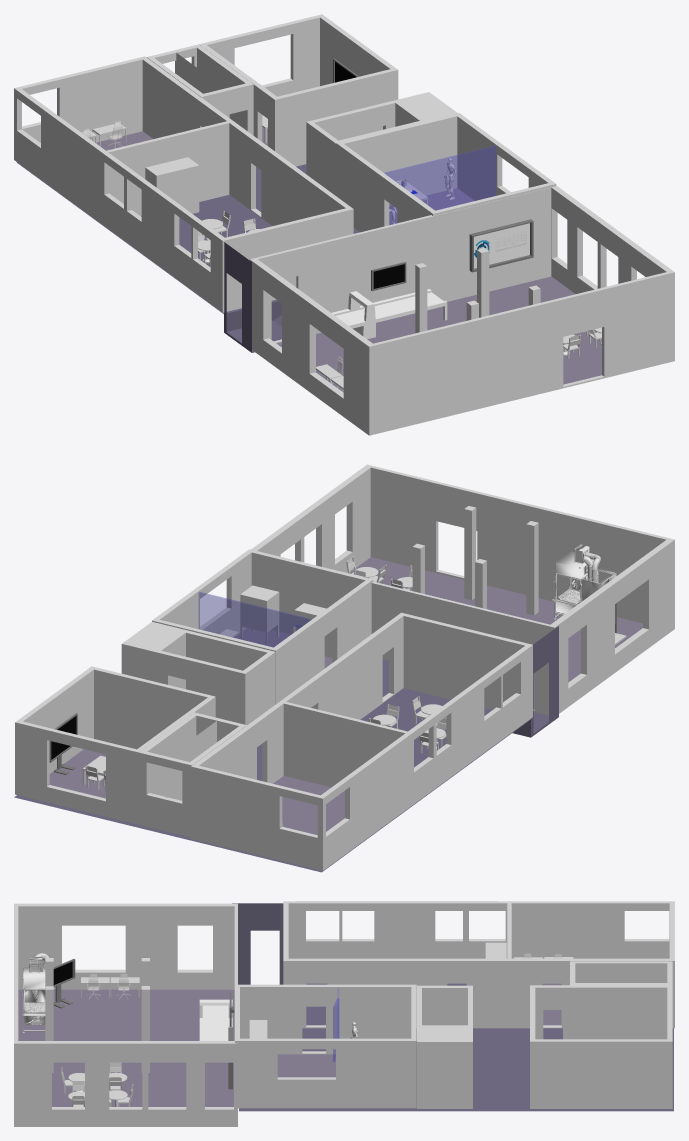
The model's file is Taramelli24_lite.glb.
The picture shows the model from 3 angles, top to bottom: view 1: azimuth 30°, elevation 25°; view 2: azimuth 150°, elevation 25°; view 3: azimuth 270°, elevation 25°; orthographic projection. The views are drawn at different scales.
Parts seen in each view (by area): view 1: Plane.003, Plane.002, Plane.004, Plane.005, Plane.006, FLOOR, Cube.002, Plane.008, marchesini, Plane, Cube.005, Cube.001 (+1 smaller); view 2: Plane.002, Plane.003, Plane.005, Plane.004, Plane.006, Plane.008, FLOOR, Cube.002, Plane, 1.24.000014, Cube.003, Cube.004; view 3: Plane.003, Plane.002, Plane.004, Plane.005, FLOOR, Plane.006, Plane.008, 1.24.000014, Plane, marchesini, schermo.004, Cube.005 (+1 smaller).
Part boxes in pixels (box(x1,y1,x2,y2)): Plane.003: box(249, 185, 674, 435); Plane.002: box(14, 56, 353, 312); Plane.004: box(336, 113, 556, 232); Plane.005: box(199, 14, 398, 166); Plane.006: box(306, 92, 457, 195); FLOOR: box(16, 162, 359, 352); Cube.002: box(384, 145, 496, 210); Plane.008: box(146, 44, 253, 135); marchesini: box(331, 289, 447, 339); Plane: box(415, 248, 540, 333); Cube.005: box(145, 157, 199, 213); Cube.001: box(474, 223, 529, 268); Plane.002: box(191, 612, 532, 870); Plane.003: box(251, 464, 674, 715); Plane.005: box(15, 666, 215, 824); Plane.004: box(152, 549, 373, 704); Plane.006: box(121, 622, 275, 725); Plane.008: box(139, 712, 246, 837); FLOOR: box(14, 626, 558, 872); Cube.002: box(198, 592, 311, 647); Plane: box(412, 506, 538, 615); 1.24.000014: box(552, 544, 616, 619); Cube.003: box(240, 585, 279, 645); Cube.004: box(294, 603, 332, 657); Plane.003: box(14, 903, 237, 1126); Plane.002: box(283, 901, 674, 1028); Plane.004: box(235, 984, 416, 1108); Plane.005: box(530, 985, 672, 1108); FLOOR: box(232, 903, 673, 1111); Plane.006: box(417, 985, 472, 1108); Plane.008: box(570, 961, 672, 985); 1.24.000014: box(22, 953, 49, 1032); Plane: box(45, 958, 149, 1072); marchesini: box(199, 999, 232, 1040); schermo.004: box(53, 959, 75, 1008); Cube.005: box(485, 942, 506, 958).
Bounding box in the file's own units: 15.1 × 4.37 × 29.88.
31 materials, 1 textured.
